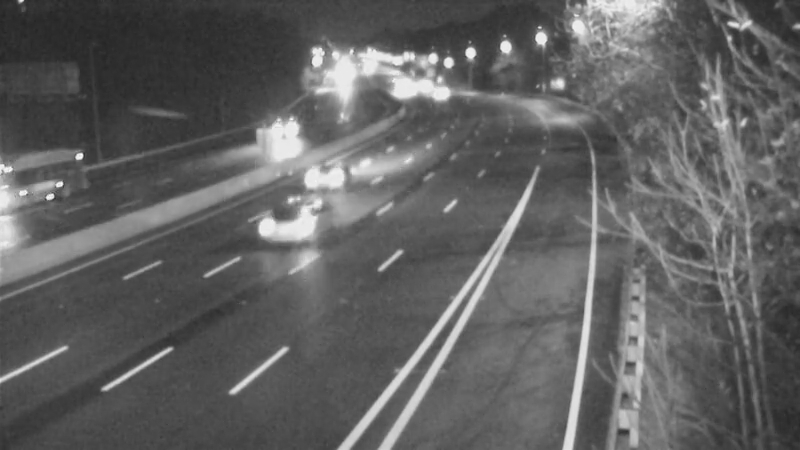vehicle: (291, 135, 371, 215), (246, 185, 326, 265), (1, 135, 80, 215), (261, 113, 311, 163)
